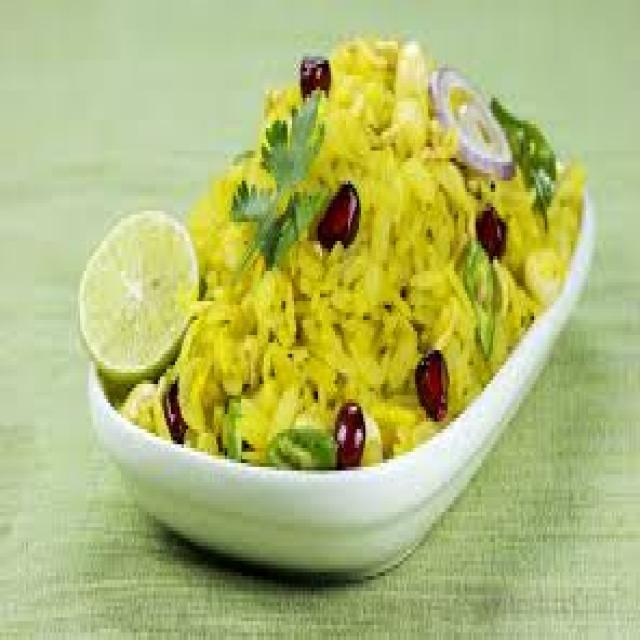POHA: (115, 44, 580, 469)
